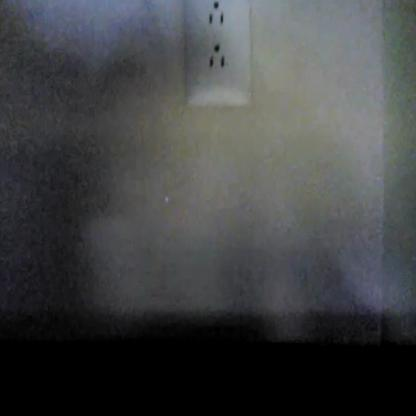OUTLET: (184, 1, 252, 109)
